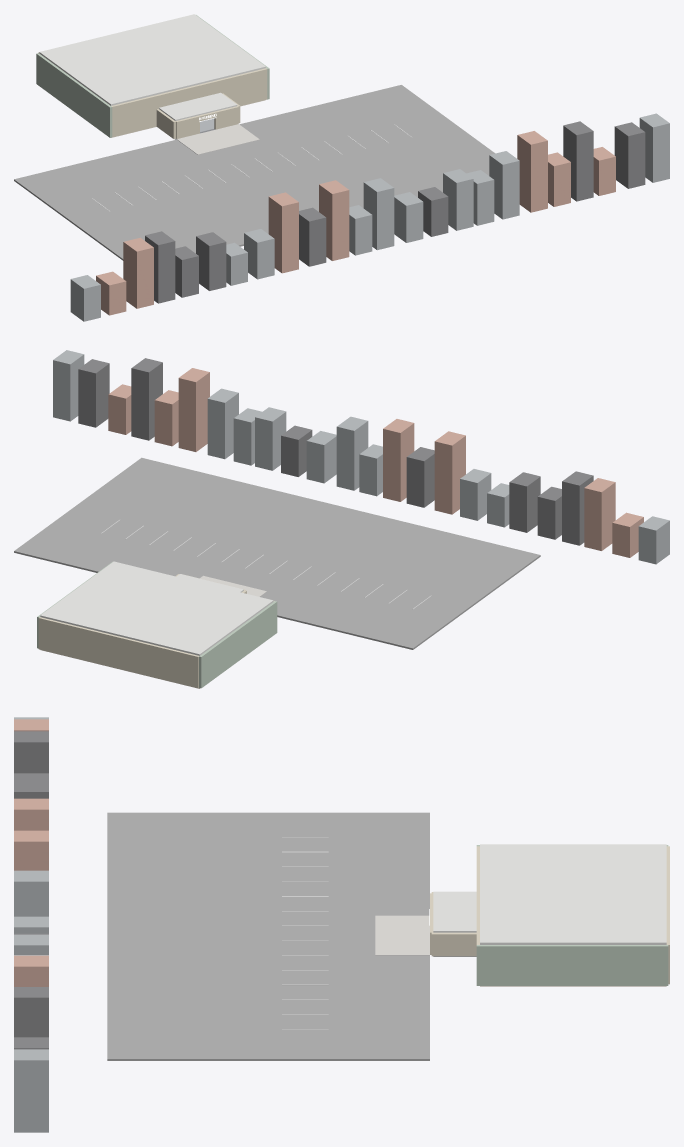
The model's file is wellness.glb.
3 views of the same model, one above another, from view 1: azimuth 30°, elevation 25°; view 2: azimuth 150°, elevation 25°; view 3: azimuth 270°, elevation 25° (orthographic). The views are drawn at different scales.
Parts seen in each view (by area): view 1: wellness_lot, wellness_ceiling, wellness_walls; view 2: wellness_lot, wellness_ceiling, wellness_walls; view 3: wellness_lot, wellness_ceiling, wellness_walls.
Part boxes in pixels (<box>): wellness_lot: <box>14,85,669,321</box>; wellness_ceiling: <box>39,14,265,105</box>; wellness_walls: <box>36,15,269,138</box>; wellness_lot: <box>14,350,669,649</box>; wellness_ceiling: <box>40,561,273,655</box>; wellness_walls: <box>37,561,277,688</box>; wellness_lot: <box>14,717,429,1132</box>; wellness_ceiling: <box>480,844,666,944</box>; wellness_walls: <box>430,845,669,985</box>.
Bounding box in the file's own units: 151 × 16.76 × 113.
